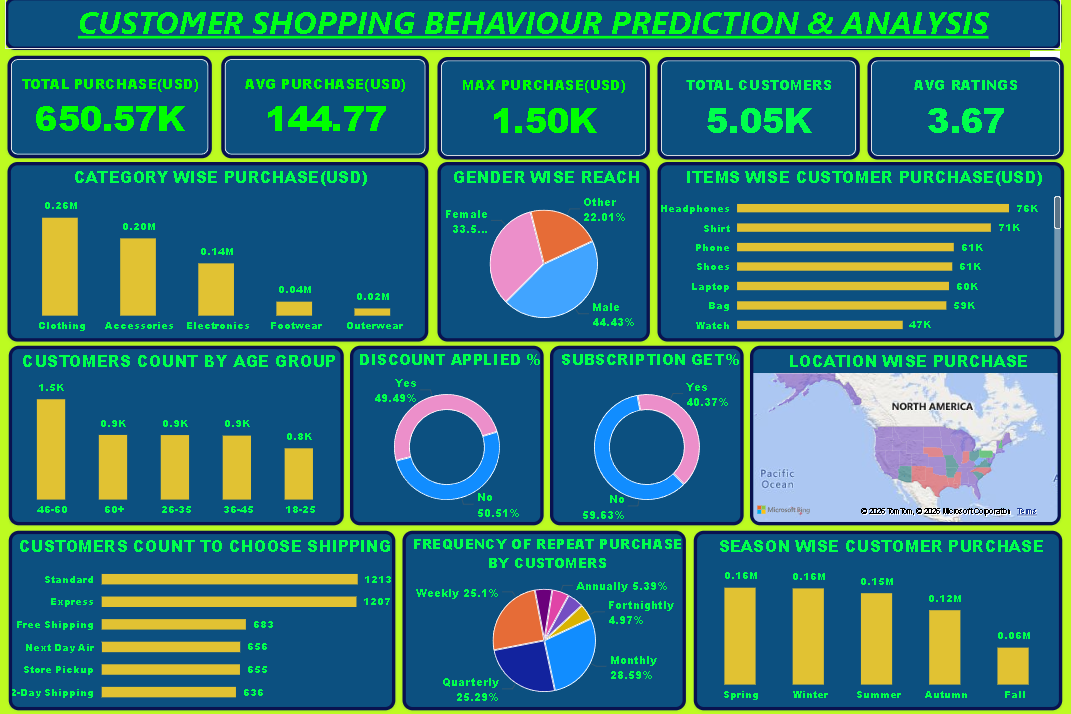

What the dashboard file says about the page in this screenshot:
{"tool":"powerbi","page":{"name":"CUSTOMER SHOPPING BEHAVIOUR PREDICTION AND ANALYSIS","canvas":[1280,860],"ordinal":0},"visuals":[{"type":"textbox","box":[5.7,0,1261.4,62.9],"z":0},{"type":"cardVisual","fields":{"Data":["Sum(customer_shopping_behavior.Purchase Amount (USD))"]},"box":[9.6,70,244.3,122.1],"z":1},{"type":"cardVisual","fields":{"Data":["Avg(customer_shopping_behavior.Purchase Amount (USD))"]},"box":[263.5,70,248.4,122.1],"z":2},{"type":"cardVisual","fields":{"Data":["Max(customer_shopping_behavior.Purchase Amount (USD))"]},"box":[522.8,71.4,253.9,122.1],"z":3},{"type":"cardVisual","fields":{"Data":["CountNonNull(customer_shopping_behavior.Customer ID)"]},"box":[784.9,71.4,241.5,122.1],"z":4},{"type":"cardVisual","fields":{"Data":["Avg(customer_shopping_behavior.Review Rating)"]},"box":[1036,71.4,234.6,122.1],"z":5},{"type":"clusteredColumnChart","title":"CATEGORY WISE PURCHASE(USD)","fields":{"Category":["customer_shopping_behavior.Category"],"Y":["Sum(customer_shopping_behavior.Purchase Amount (USD))"]},"box":[9.6,197.6,502.2,214.1],"z":6},{"type":"barChart","title":"ITEMS WISE CUSTOMER PURCHASE(USD)","fields":{"Category":["customer_shopping_behavior.Item Purchased"],"Y":["Sum(customer_shopping_behavior.Purchase Amount (USD))"]},"box":[784.9,197.6,485.8,214.1],"z":7},{"type":"pieChart","title":"GENDER WISE REACH","fields":{"Category":["customer_shopping_behavior.Gender"],"Y":["Sum(customer_shopping_behavior.Purchase Amount (USD))"]},"box":[522.8,197.6,253.9,214.1],"z":8},{"type":"columnChart","title":"CUSTOMERS COUNT BY AGE GROUP","fields":{"Category":["customer_shopping_behavior.Age Group"],"Y":["CountNonNull(customer_shopping_behavior.Customer ID)"]},"box":[10,417.1,400,214.3],"z":9},{"type":"filledMap","title":"LOCATION WISE PURCHASE","fields":{"Category":["customer_shopping_behavior.Location"],"Series":["customer_shopping_behavior.Purchase Amount (USD)"]},"box":[895.7,417.1,371.4,214.3],"z":10},{"type":"donutChart","title":"DISCOUNT APPLIED %","fields":{"Category":["customer_shopping_behavior.Discount Applied"],"Y":["Sum(customer_shopping_behavior.Purchase Amount (USD))"]},"box":[418.6,417.1,231.4,214.3],"z":11},{"type":"columnChart","title":"SEASON WISE CUSTOMER PURCHASE","fields":{"Category":["customer_shopping_behavior.Season"],"Y":["Sum(customer_shopping_behavior.Purchase Amount (USD))"]},"box":[828.6,637.1,440,214.3],"z":12},{"type":"clusteredBarChart","title":"CUSTOMERS COUNT TO CHOOSE SHIPPING","fields":{"Category":["customer_shopping_behavior.Shipping Type"],"Y":["CountNonNull(customer_shopping_behavior.Customer ID)"]},"box":[10,637.1,461.4,214.3],"z":13},{"type":"pieChart","title":"FREQUENCY OF REPEAT PURCHASE BY CUSTOMERS","fields":{"Category":["customer_shopping_behavior.Frequency of Purchases"],"Y":["Sum(customer_shopping_behavior.Purchase Amount (USD))"]},"box":[480,637.1,338.6,214.3],"z":14},{"type":"donutChart","title":"SUBSCRIPTION GET%","fields":{"Category":["customer_shopping_behavior.Subscription Status"],"Y":["Sum(customer_shopping_behavior.Purchase Amount (USD))"]},"box":[657.1,417.1,231.4,214.3],"z":15}]}

Visuals, with their boxes in screenshot pixels (x1, y1, x2, y2), scaled from the page's 1280x860 canvas onto the 1071x714 screenshot:
textbox: <bbox>5, 0, 1060, 52</bbox>
cardVisual - Sum(customer_shopping_behavior.Purchase Amount (USD)): <bbox>8, 58, 212, 159</bbox>
cardVisual - Avg(customer_shopping_behavior.Purchase Amount (USD)): <bbox>220, 58, 428, 159</bbox>
cardVisual - Max(customer_shopping_behavior.Purchase Amount (USD)): <bbox>437, 59, 650, 161</bbox>
cardVisual - CountNonNull(customer_shopping_behavior.Customer ID): <bbox>657, 59, 859, 161</bbox>
cardVisual - Avg(customer_shopping_behavior.Review Rating): <bbox>867, 59, 1063, 161</bbox>
"CATEGORY WISE PURCHASE(USD)" clusteredColumnChart: <bbox>8, 164, 428, 342</bbox>
"ITEMS WISE CUSTOMER PURCHASE(USD)" barChart: <bbox>657, 164, 1063, 342</bbox>
"GENDER WISE REACH" pieChart: <bbox>437, 164, 650, 342</bbox>
"CUSTOMERS COUNT BY AGE GROUP" columnChart: <bbox>8, 346, 343, 524</bbox>
"LOCATION WISE PURCHASE" filledMap: <bbox>749, 346, 1060, 524</bbox>
"DISCOUNT APPLIED %" donutChart: <bbox>350, 346, 544, 524</bbox>
"SEASON WISE CUSTOMER PURCHASE" columnChart: <bbox>693, 529, 1061, 707</bbox>
"CUSTOMERS COUNT TO CHOOSE SHIPPING" clusteredBarChart: <bbox>8, 529, 394, 707</bbox>
"FREQUENCY OF REPEAT PURCHASE BY CUSTOMERS" pieChart: <bbox>402, 529, 685, 707</bbox>
"SUBSCRIPTION GET%" donutChart: <bbox>550, 346, 743, 524</bbox>
